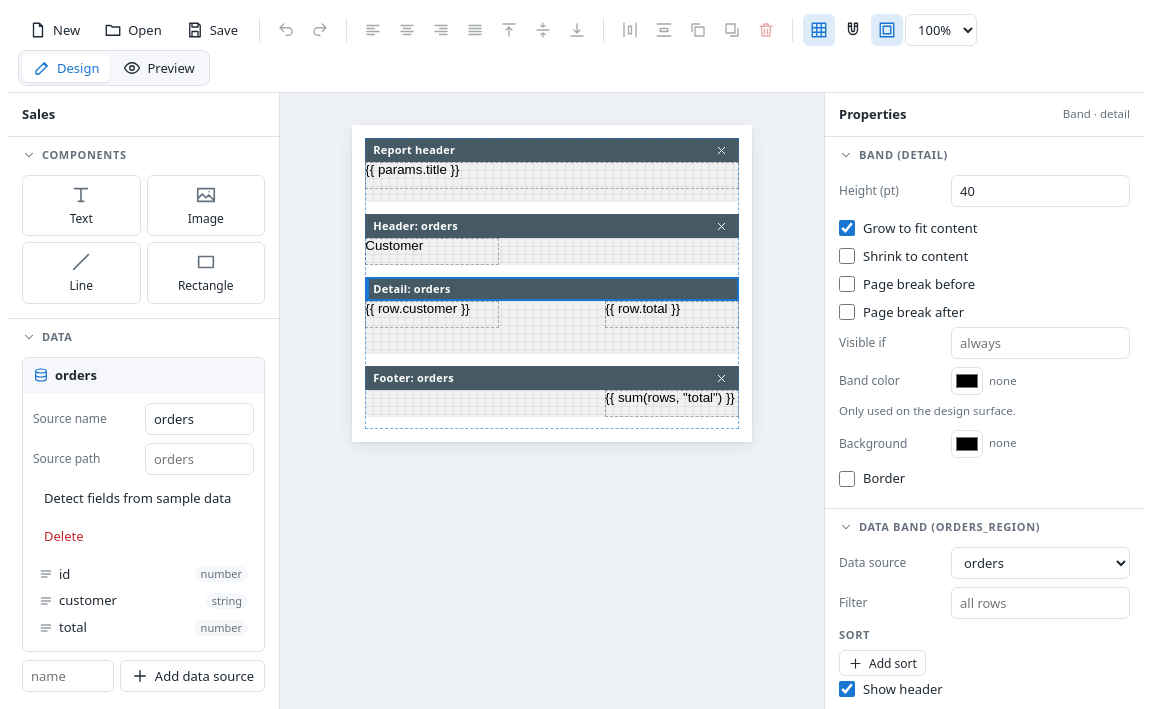
Scenario: ReportDesigner: surface › colors bands on the design surface and lets users change the color
Type "#ffcc00" into the colour field labelled "Band color" at (967, 381), box [951,367,983,395]
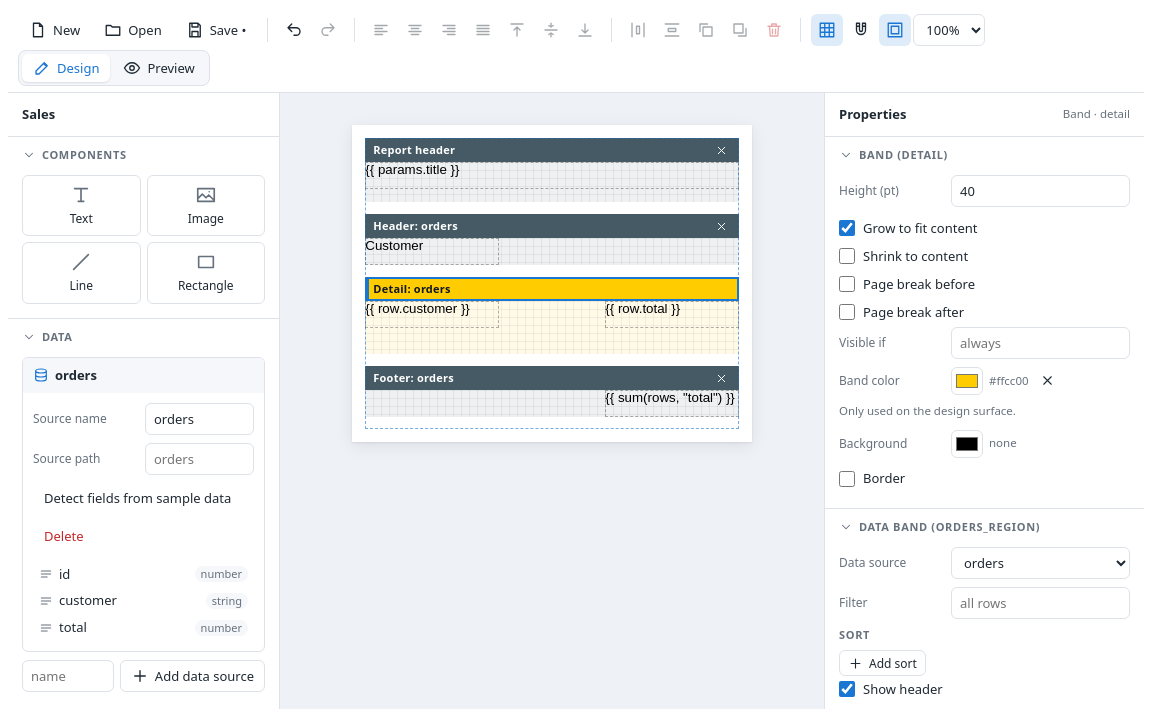
Expected: the text "#ffcc00" is shown, [989,373,1028,389]
